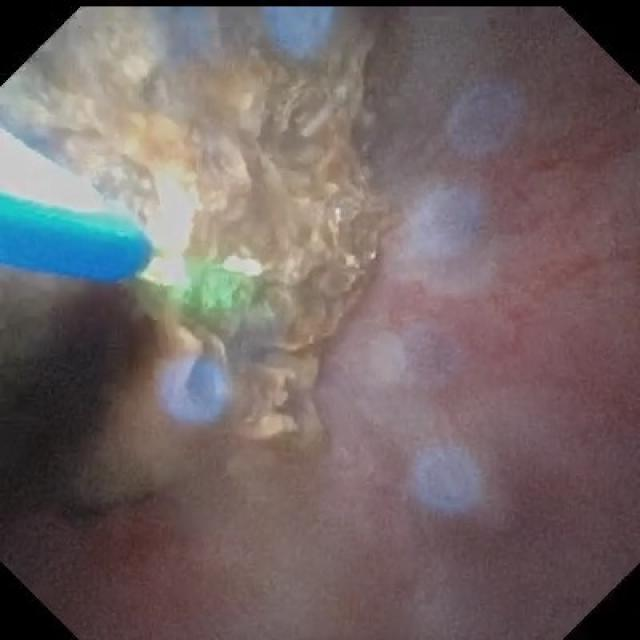laser-fibre: (141, 239, 182, 285)
laser_dot: (200, 264, 240, 307)
stone-new: (0, 6, 384, 514)
